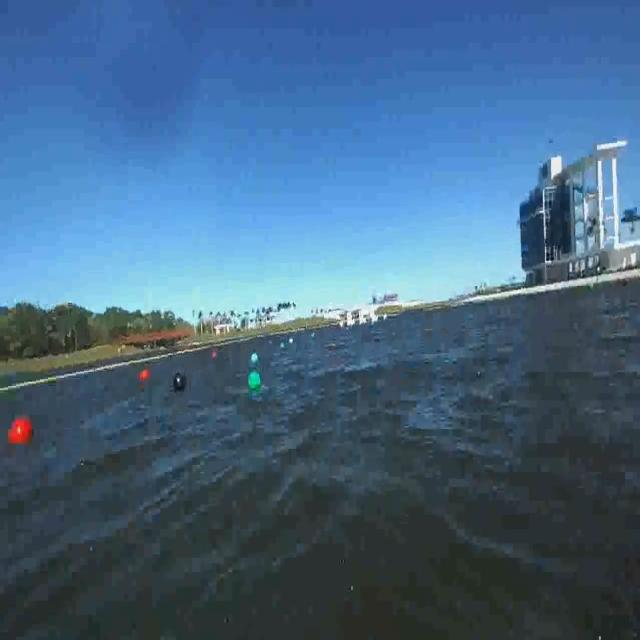black-buoy: (172, 372, 188, 392)
green-buoy: (248, 370, 261, 391)
red-buoy: (8, 416, 34, 446), (140, 368, 150, 379)
